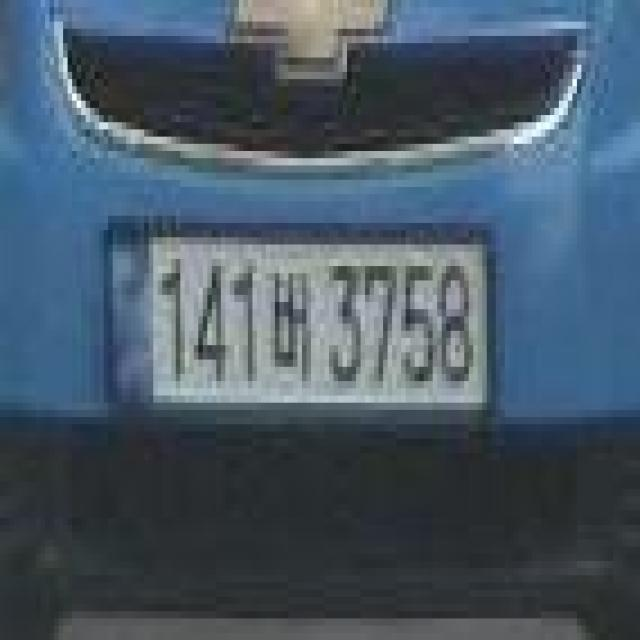illegal_plate: (100, 214, 500, 440)
